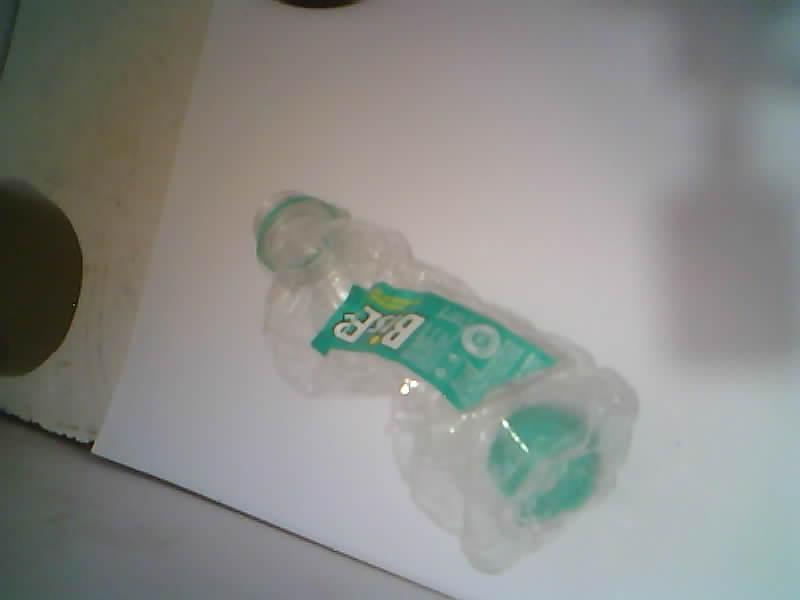non-biodegradable: (256, 195, 637, 573)
